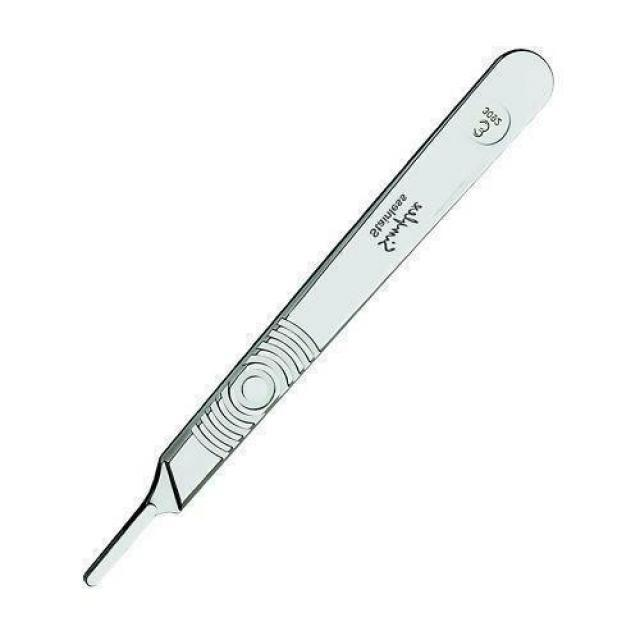Scalpel: (78, 44, 560, 590)
